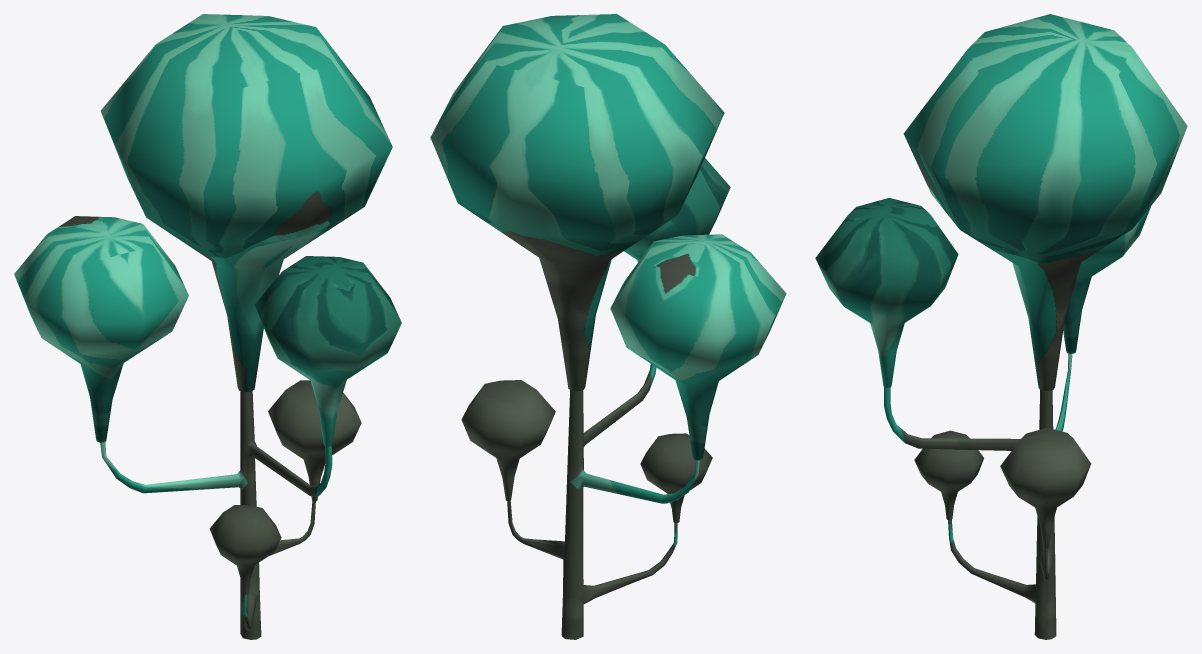
File: tree_E.fbx
3 views of the same model, side by side, from view 1: azimuth 30°, elevation 25°; view 2: azimuth 150°, elevation 25°; view 3: azimuth 270°, elevation 25° (orthographic).
Parts seen in each view (by area): view 1: treeE; view 2: treeE; view 3: treeE.
Part boxes in pixels (box(x1,y1,x2,y2)): treeE: box(14, 14, 401, 639); treeE: box(430, 14, 786, 639); treeE: box(815, 14, 1187, 639).
Bounding box in the file's own units: 136 × 237 × 134.
